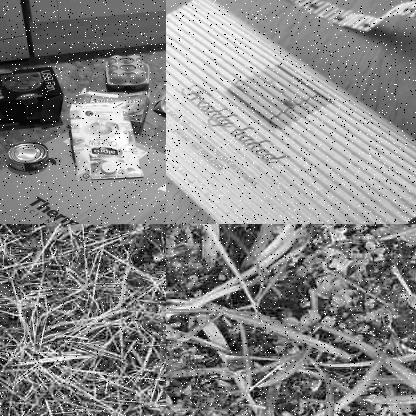cardboard: (166, 0, 415, 223), (228, 0, 415, 99), (0, 129, 165, 223), (0, 64, 69, 130), (77, 89, 148, 128), (105, 52, 153, 86)
metal: (0, 137, 52, 173)
plastic: (67, 102, 144, 180)
